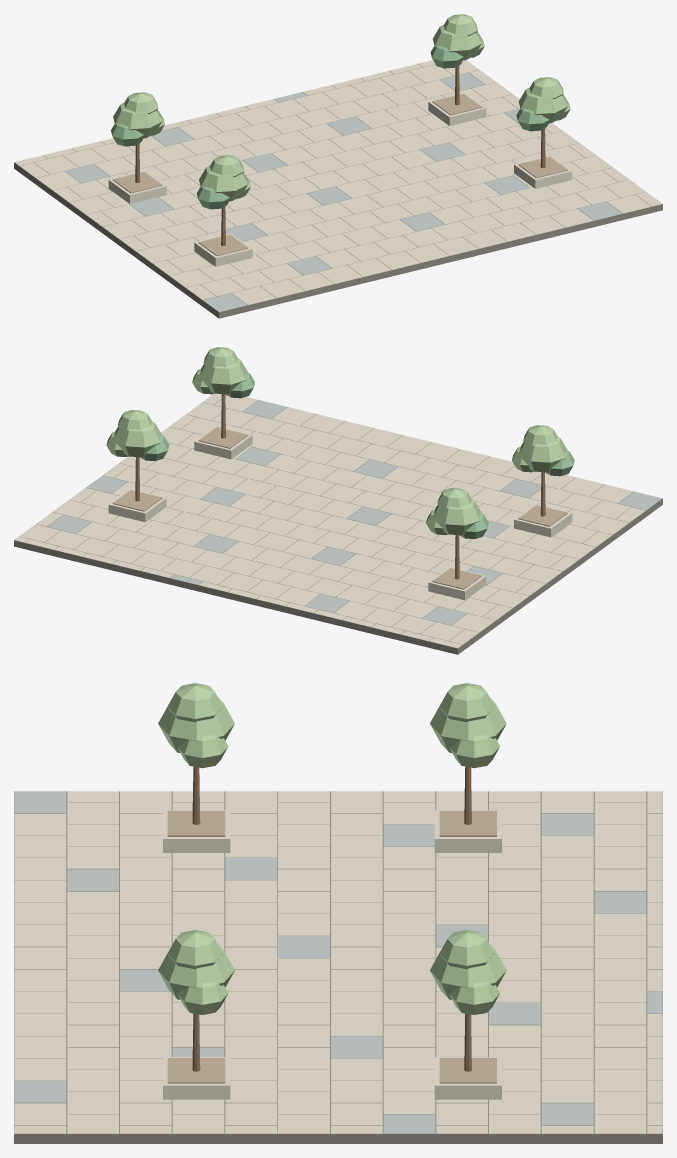
Rendered from ClockCourtyard.glb.
3 views of the same model, one above another, from view 1: azimuth 30°, elevation 25°; view 2: azimuth 150°, elevation 25°; view 3: azimuth 270°, elevation 25° (orthographic). The views are drawn at different scales.
Parts seen in each view (by area): view 1: ClockCourtyard; view 2: ClockCourtyard; view 3: ClockCourtyard.
Part boxes in pixels (x1,y1,x2,y2): ClockCourtyard: (14, 14, 662, 318); ClockCourtyard: (14, 347, 662, 654); ClockCourtyard: (14, 683, 662, 1143).
Size of the model in its own units: 20 by 4.5 by 16.
